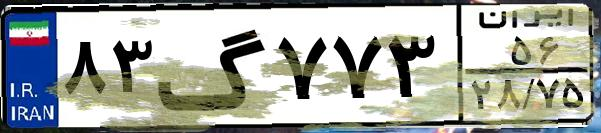2: (470, 70, 495, 125)
3: (385, 28, 445, 110), (110, 28, 156, 98)
5: (560, 70, 590, 125), (508, 27, 537, 80)
6: (537, 27, 568, 80)
7: (270, 28, 330, 110), (330, 28, 385, 110), (535, 70, 560, 125)
8: (57, 26, 110, 100), (495, 70, 520, 125)
گ: (156, 12, 270, 120)
